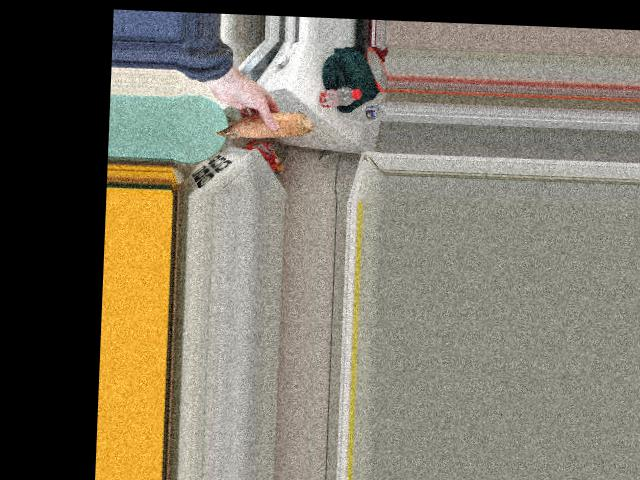sweet_potato: (215, 113, 318, 138)
